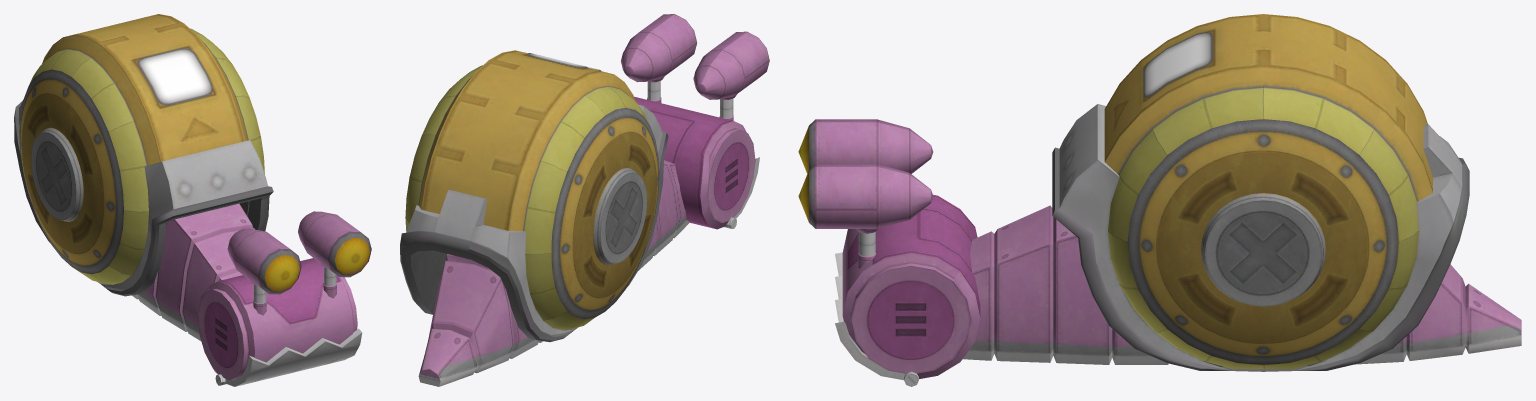
Rendered from snail.fbx.
3 renders of one model, left to right at view 1: azimuth 30°, elevation 25°; view 2: azimuth 150°, elevation 25°; view 3: azimuth 270°, elevation 25°, orthographic. The views are drawn at different scales.
Visible parts, largest first — view 1: _1_em4009_1_body, _1_em4009_4_decal; view 2: _1_em4009_1_body; view 3: _1_em4009_1_body, _1_em4009_4_decal.
Part boxes in pixels (<box>): _1_em4009_1_body: <box>14,14,371,386</box>; _1_em4009_4_decal: <box>137,48,212,105</box>; _1_em4009_1_body: <box>400,14,769,386</box>; _1_em4009_1_body: <box>798,14,1521,386</box>; _1_em4009_4_decal: <box>1143,32,1212,97</box>.
Bounding box in the file's own units: 1.34 × 1.72 × 3.65.
